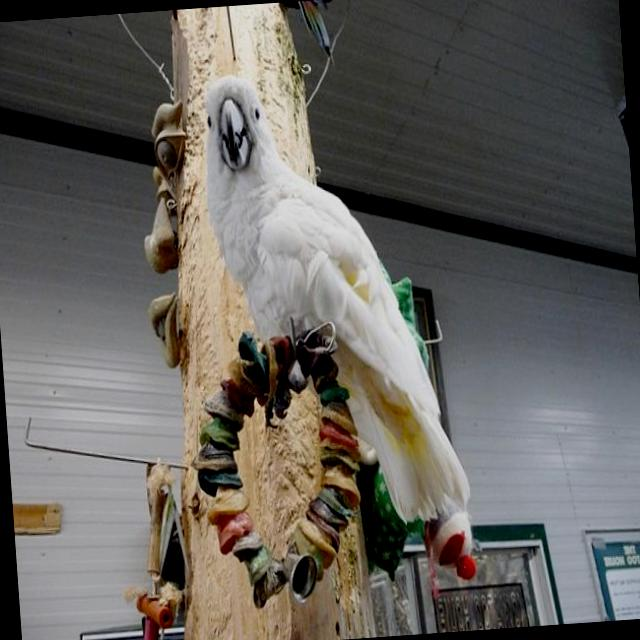Kakatua Putih: (180, 33, 504, 626)
